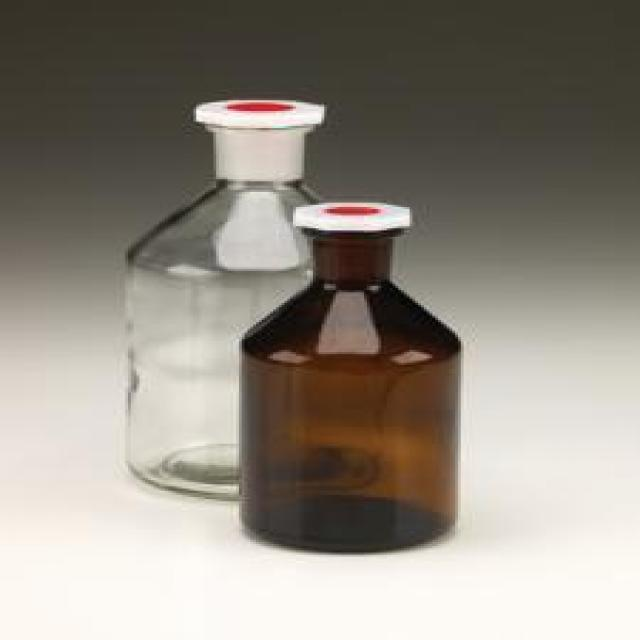non-organic waste: (229, 193, 465, 554)
